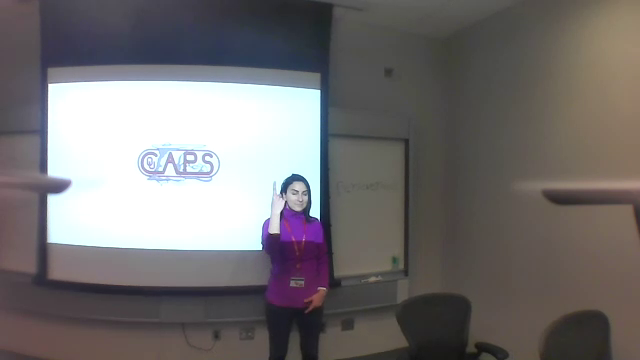up: (269, 180, 291, 217)
